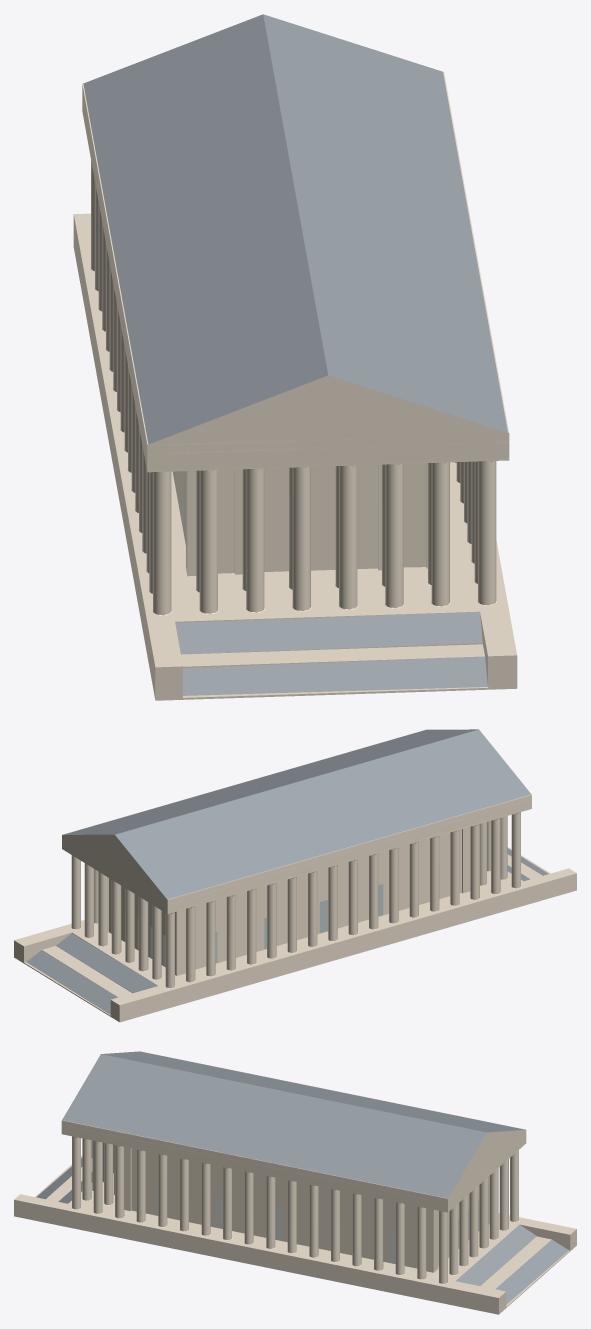
Rendered from detail.glb.
3 views of the same model, one above another, from view 1: azimuth 30°, elevation 25°; view 2: azimuth 150°, elevation 25°; view 3: azimuth 270°, elevation 25° (orthographic). The views are drawn at different scales.
Visible parts, largest first — view 1: roof, stone, trim; view 2: stone, roof, trim, window; view 3: stone, roof, trim, window.
Boxes of the visible parts, x1=… form: roof: x1=83, y1=14, x2=507, y2=695; stone: x1=73, y1=85, x2=517, y2=700; trim: x1=82, y1=71, x2=508, y2=615; stone: x1=14, y1=795, x2=576, y2=1022; roof: x1=26, y1=729, x2=548, y2=1014; trim: x1=62, y1=729, x2=531, y2=988; window: x1=125, y1=884, x2=383, y2=966; stone: x1=14, y1=1121, x2=576, y2=1314; roof: x1=36, y1=1051, x2=568, y2=1304; trim: x1=61, y1=1051, x2=526, y2=1284; window: x1=156, y1=1185, x2=479, y2=1263.
Bounding box in the file's own units: 94.68 × 36.2 × 134.
